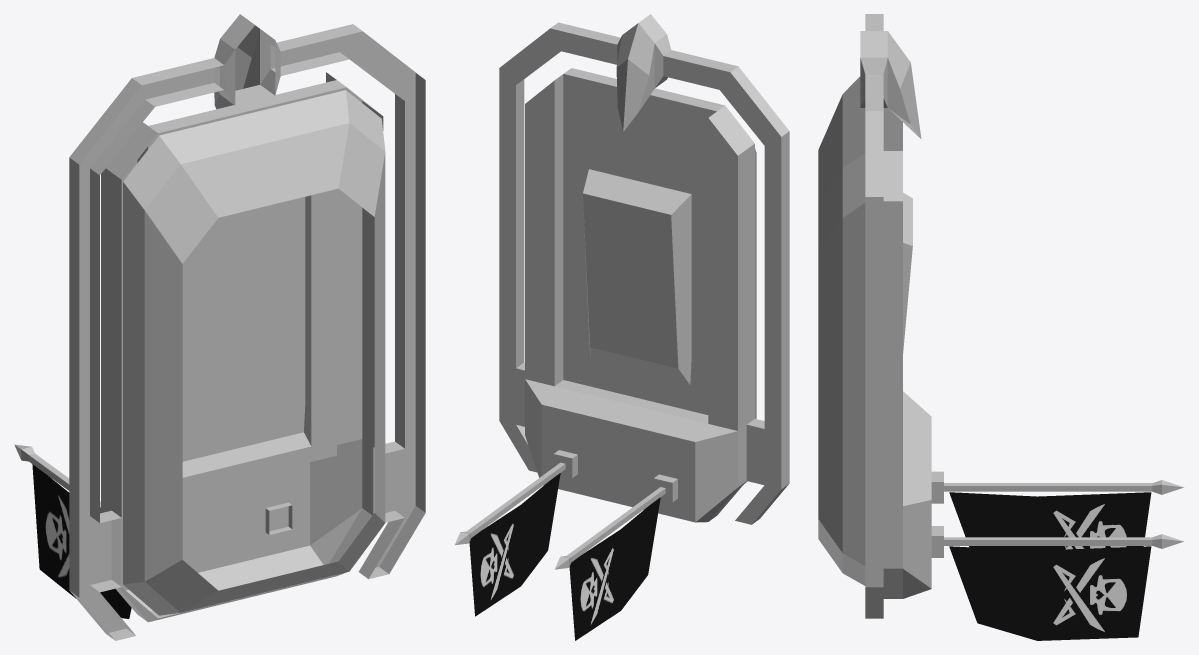
Rendered from pirate_guide_my_ship_0.fbx.
3 views of the same model, side by side, from view 1: azimuth 30°, elevation 25°; view 2: azimuth 150°, elevation 25°; view 3: azimuth 270°, elevation 25° (orthographic). The views are drawn at different scales.
Visible parts, largest first — view 1: Cube.398; view 2: Cube.398; view 3: Cube.398.
Boxes of the visible parts, x1,y1,x2,y2 form: Cube.398: (14,14,425,640); Cube.398: (454,14,789,640); Cube.398: (818,14,1183,640).
Size of the model in its own units: 358 by 638 by 363.
